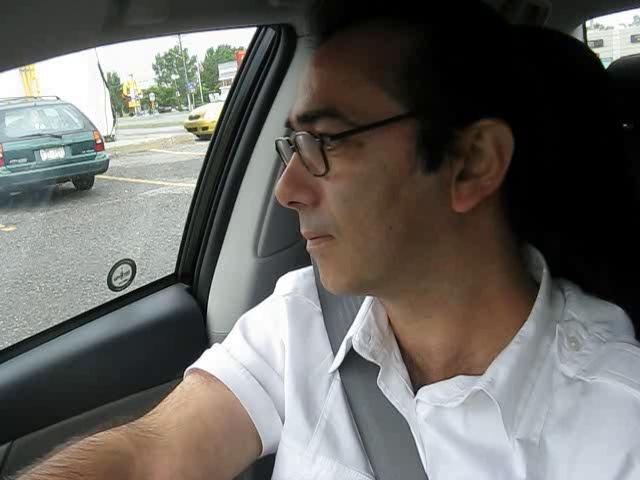no_yawn: (283, 220, 348, 259)
open_eyeR: (290, 108, 361, 178)
